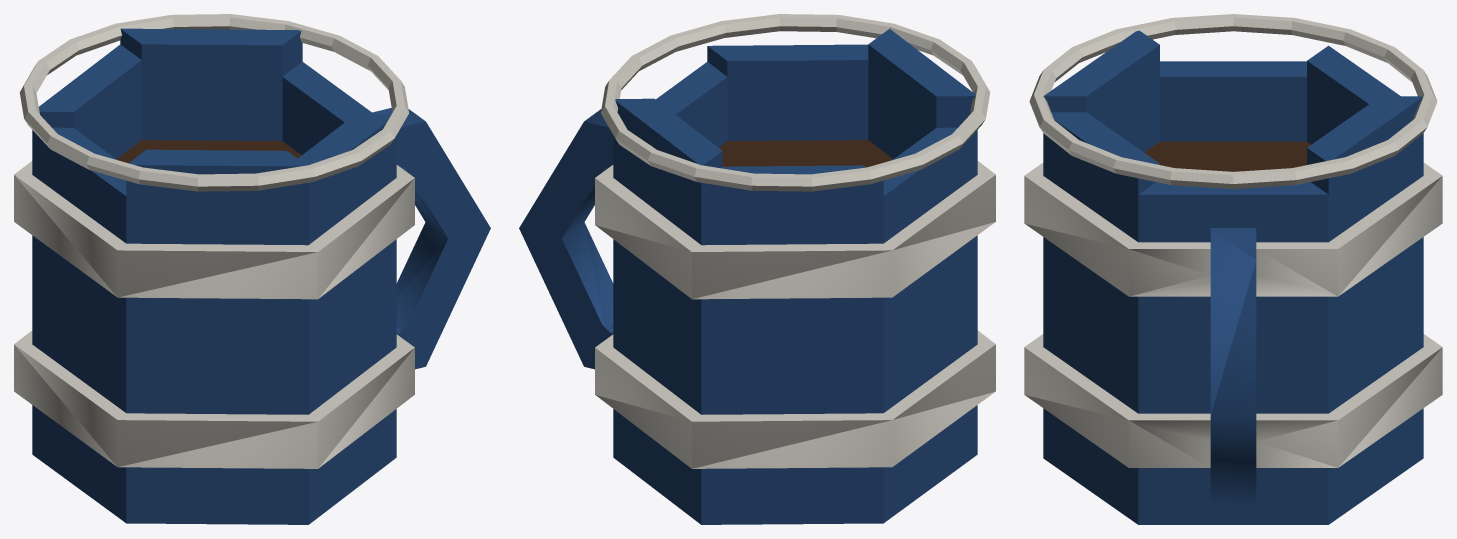
File: mug.glb
3 renders of one model, left to right at view 1: azimuth 30°, elevation 25°; view 2: azimuth 150°, elevation 25°; view 3: azimuth 270°, elevation 25°, orthographic.
Parts seen in each view (by area): view 1: mug; view 2: mug; view 3: mug.
Part boxes in pixels (bbox=[...]): mug: bbox=[14, 14, 490, 524]; mug: bbox=[519, 14, 995, 524]; mug: bbox=[1024, 14, 1442, 524].
Size of the model in its own units: 0.3437 by 0.2734 by 0.2851.
